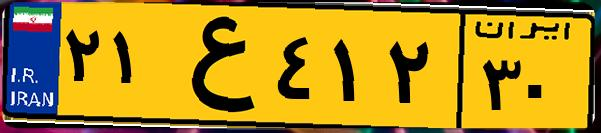0: (525, 38, 570, 115)
1: (330, 28, 385, 110), (110, 28, 158, 98)
2: (385, 28, 445, 110), (57, 26, 110, 100)
3: (475, 38, 525, 113)
4: (270, 28, 330, 110)
ع: (158, 12, 270, 120)
